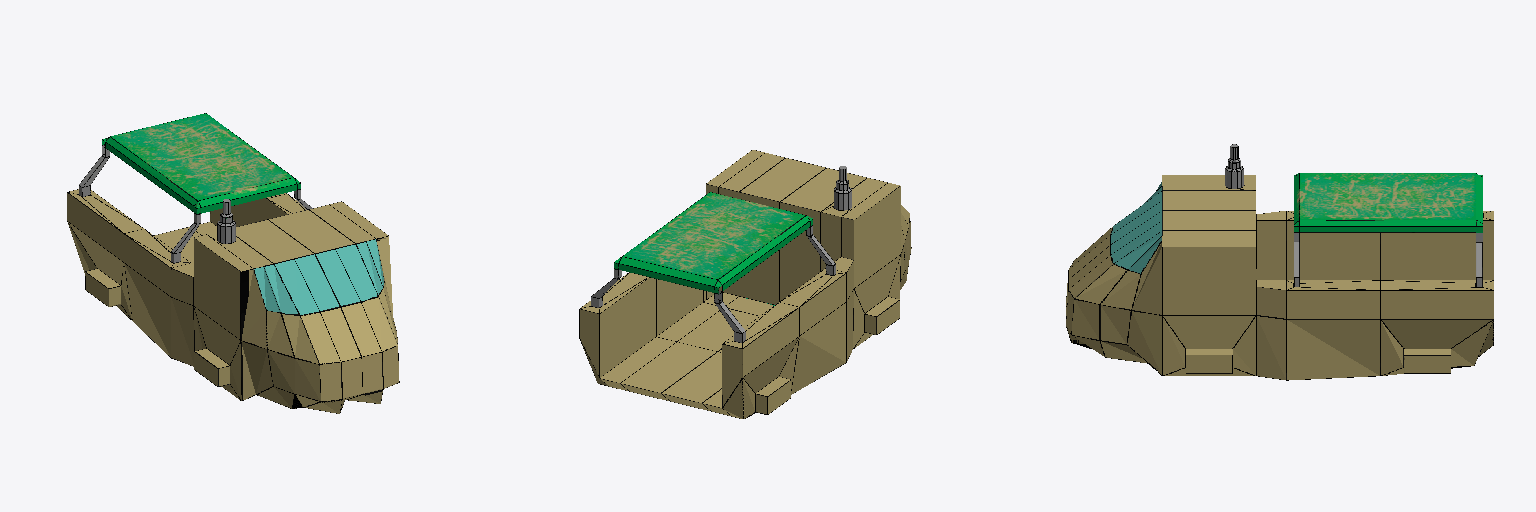
3 renders of one model, left to right at view 1: azimuth 30°, elevation 25°; view 2: azimuth 150°, elevation 25°; view 3: azimuth 270°, elevation 25°, orthographic.
Parts seen in each view (by area): view 1: truck3.covered_Cube.021; view 2: truck3.covered_Cube.021; view 3: truck3.covered_Cube.021.
Boxes of the visible parts, <box> form: truck3.covered_Cube.021: <box>67,113,399,413</box>; truck3.covered_Cube.021: <box>579,150,911,418</box>; truck3.covered_Cube.021: <box>1066,144,1493,380</box>.
Size of the model in its own units: 1.67 by 1.59 by 3.64.
1 materials, 1 textured.